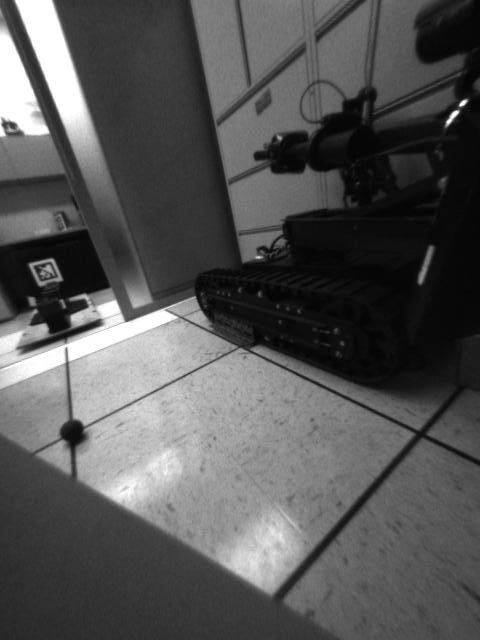dogtoy: (53, 408, 90, 450)
